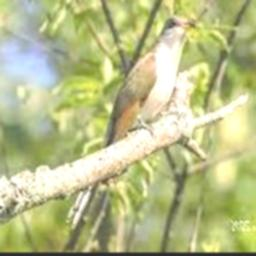Cuckoo: (67, 15, 196, 231)
